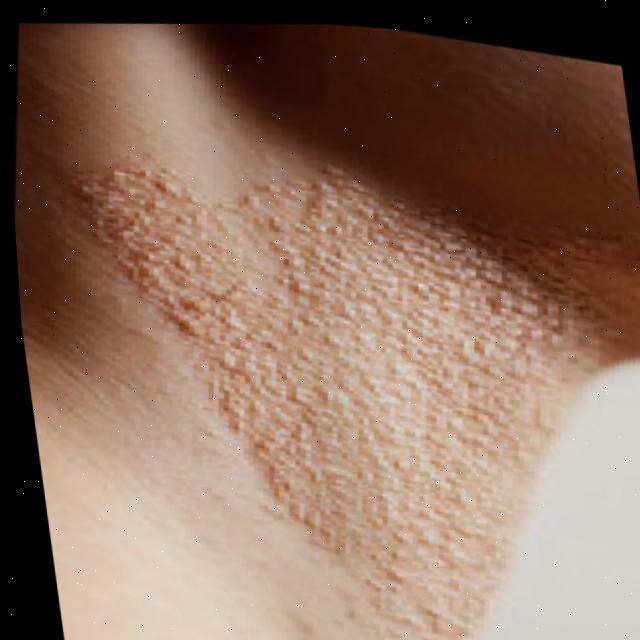Eczema: (108, 124, 640, 638)
